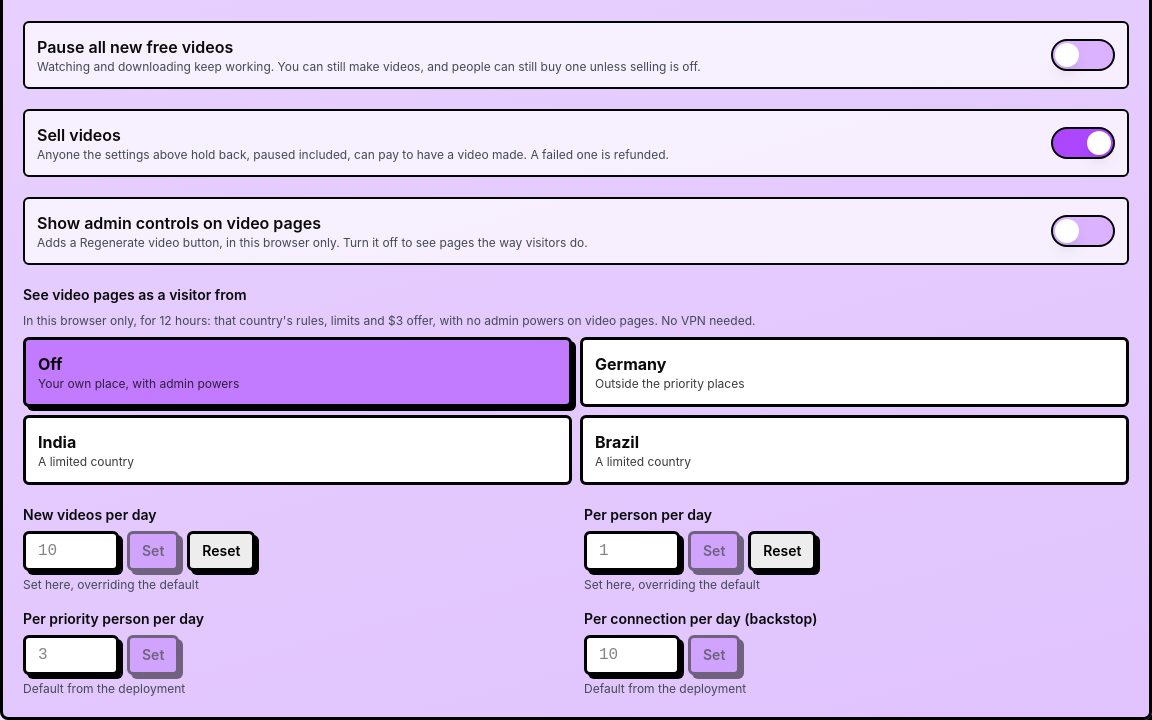
Test: video making controls › caps a limit where the server does, and shows why a save failed
This screenshot has width=1152, height=720.
(page scrolled)
In the field named "Per person per day": {"x": 632, "y": 551} [584, 531, 680, 571], type "1001"
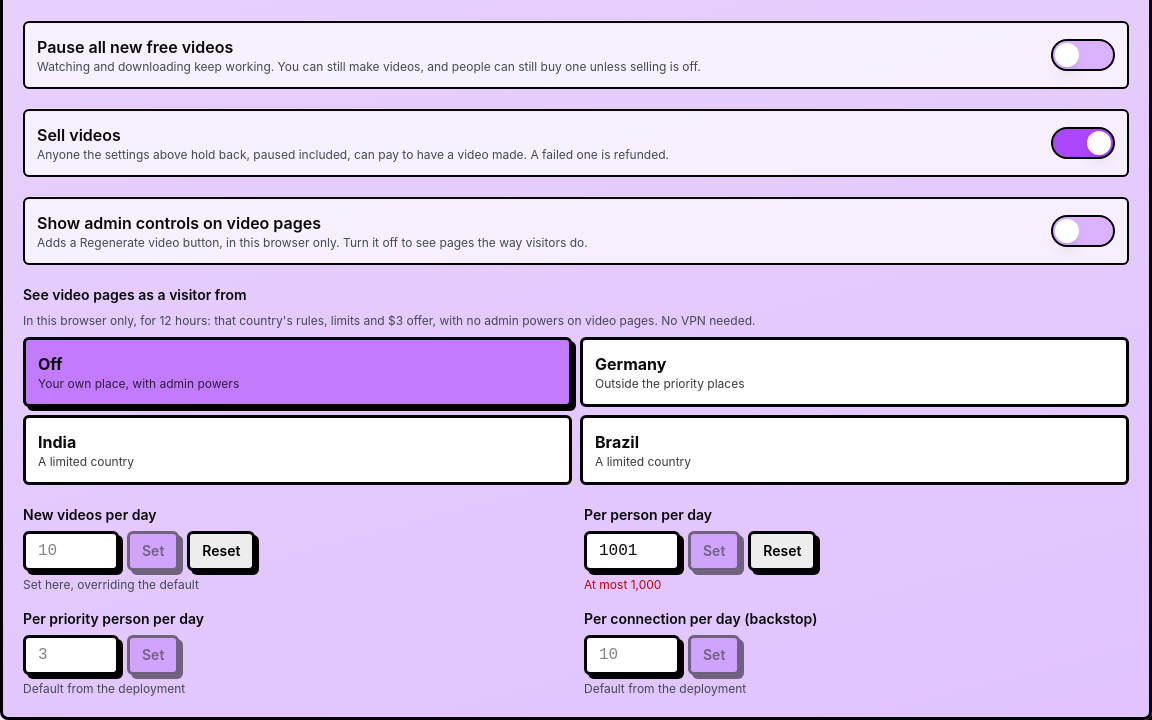
Expected: the button with aria-label "Set per person per day" is disabled, [688, 531, 740, 571]
Expected: the message reads "At most 1,000", [584, 577, 661, 592]
Replace the text in the field named "Per person per day" with "1000": {"x": 632, "y": 551} [584, 531, 680, 571]
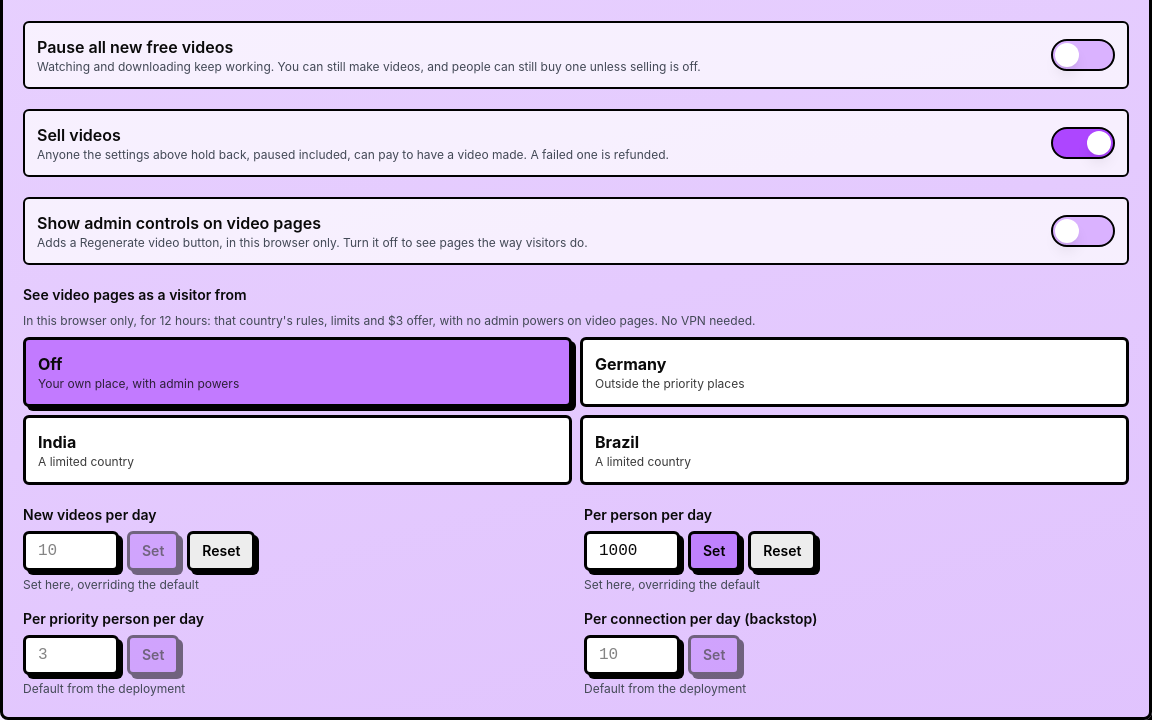
Click the button with aria-label "Set per person per day": {"x": 714, "y": 551} [688, 531, 740, 571]
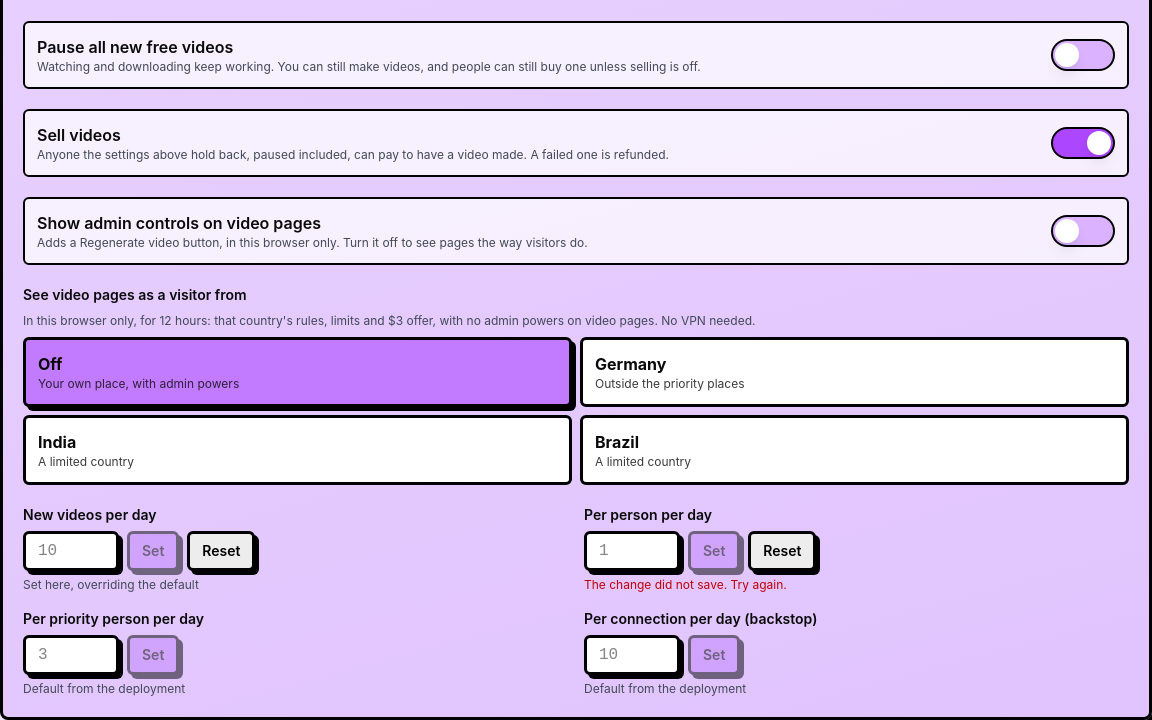
Expected: the message reads "The change did not save. Try again.", [584, 577, 787, 592]
